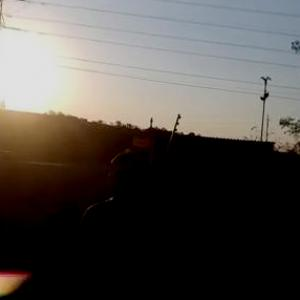follow: (63, 145, 164, 299)
